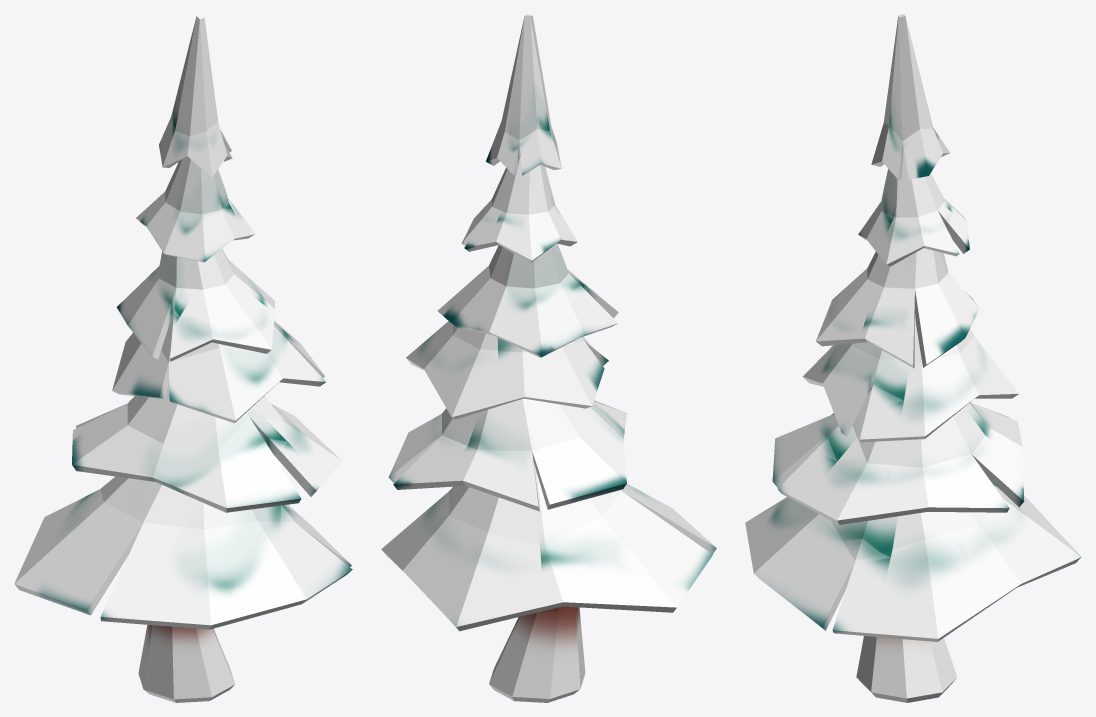
Rendered from SNOWY_TREE.fbx.
3 views of the same model, side by side, from view 1: azimuth 30°, elevation 25°; view 2: azimuth 150°, elevation 25°; view 3: azimuth 270°, elevation 25° (orthographic).
Visible parts, largest first — view 1: Circle, Cylinder; view 2: Circle, Cylinder; view 3: Circle, Cylinder.
Part boxes in pixels (<box>): Circle: <box>14,14,352,629</box>; Cylinder: <box>138,625,234,702</box>; Circle: <box>381,14,716,631</box>; Cylinder: <box>489,606,585,702</box>; Circle: <box>745,14,1081,641</box>; Cylinder: <box>856,636,957,702</box>.
Bounding box in the file's own units: 750 × 1610 × 728.
Materials: 2 (2 with a texture image).
